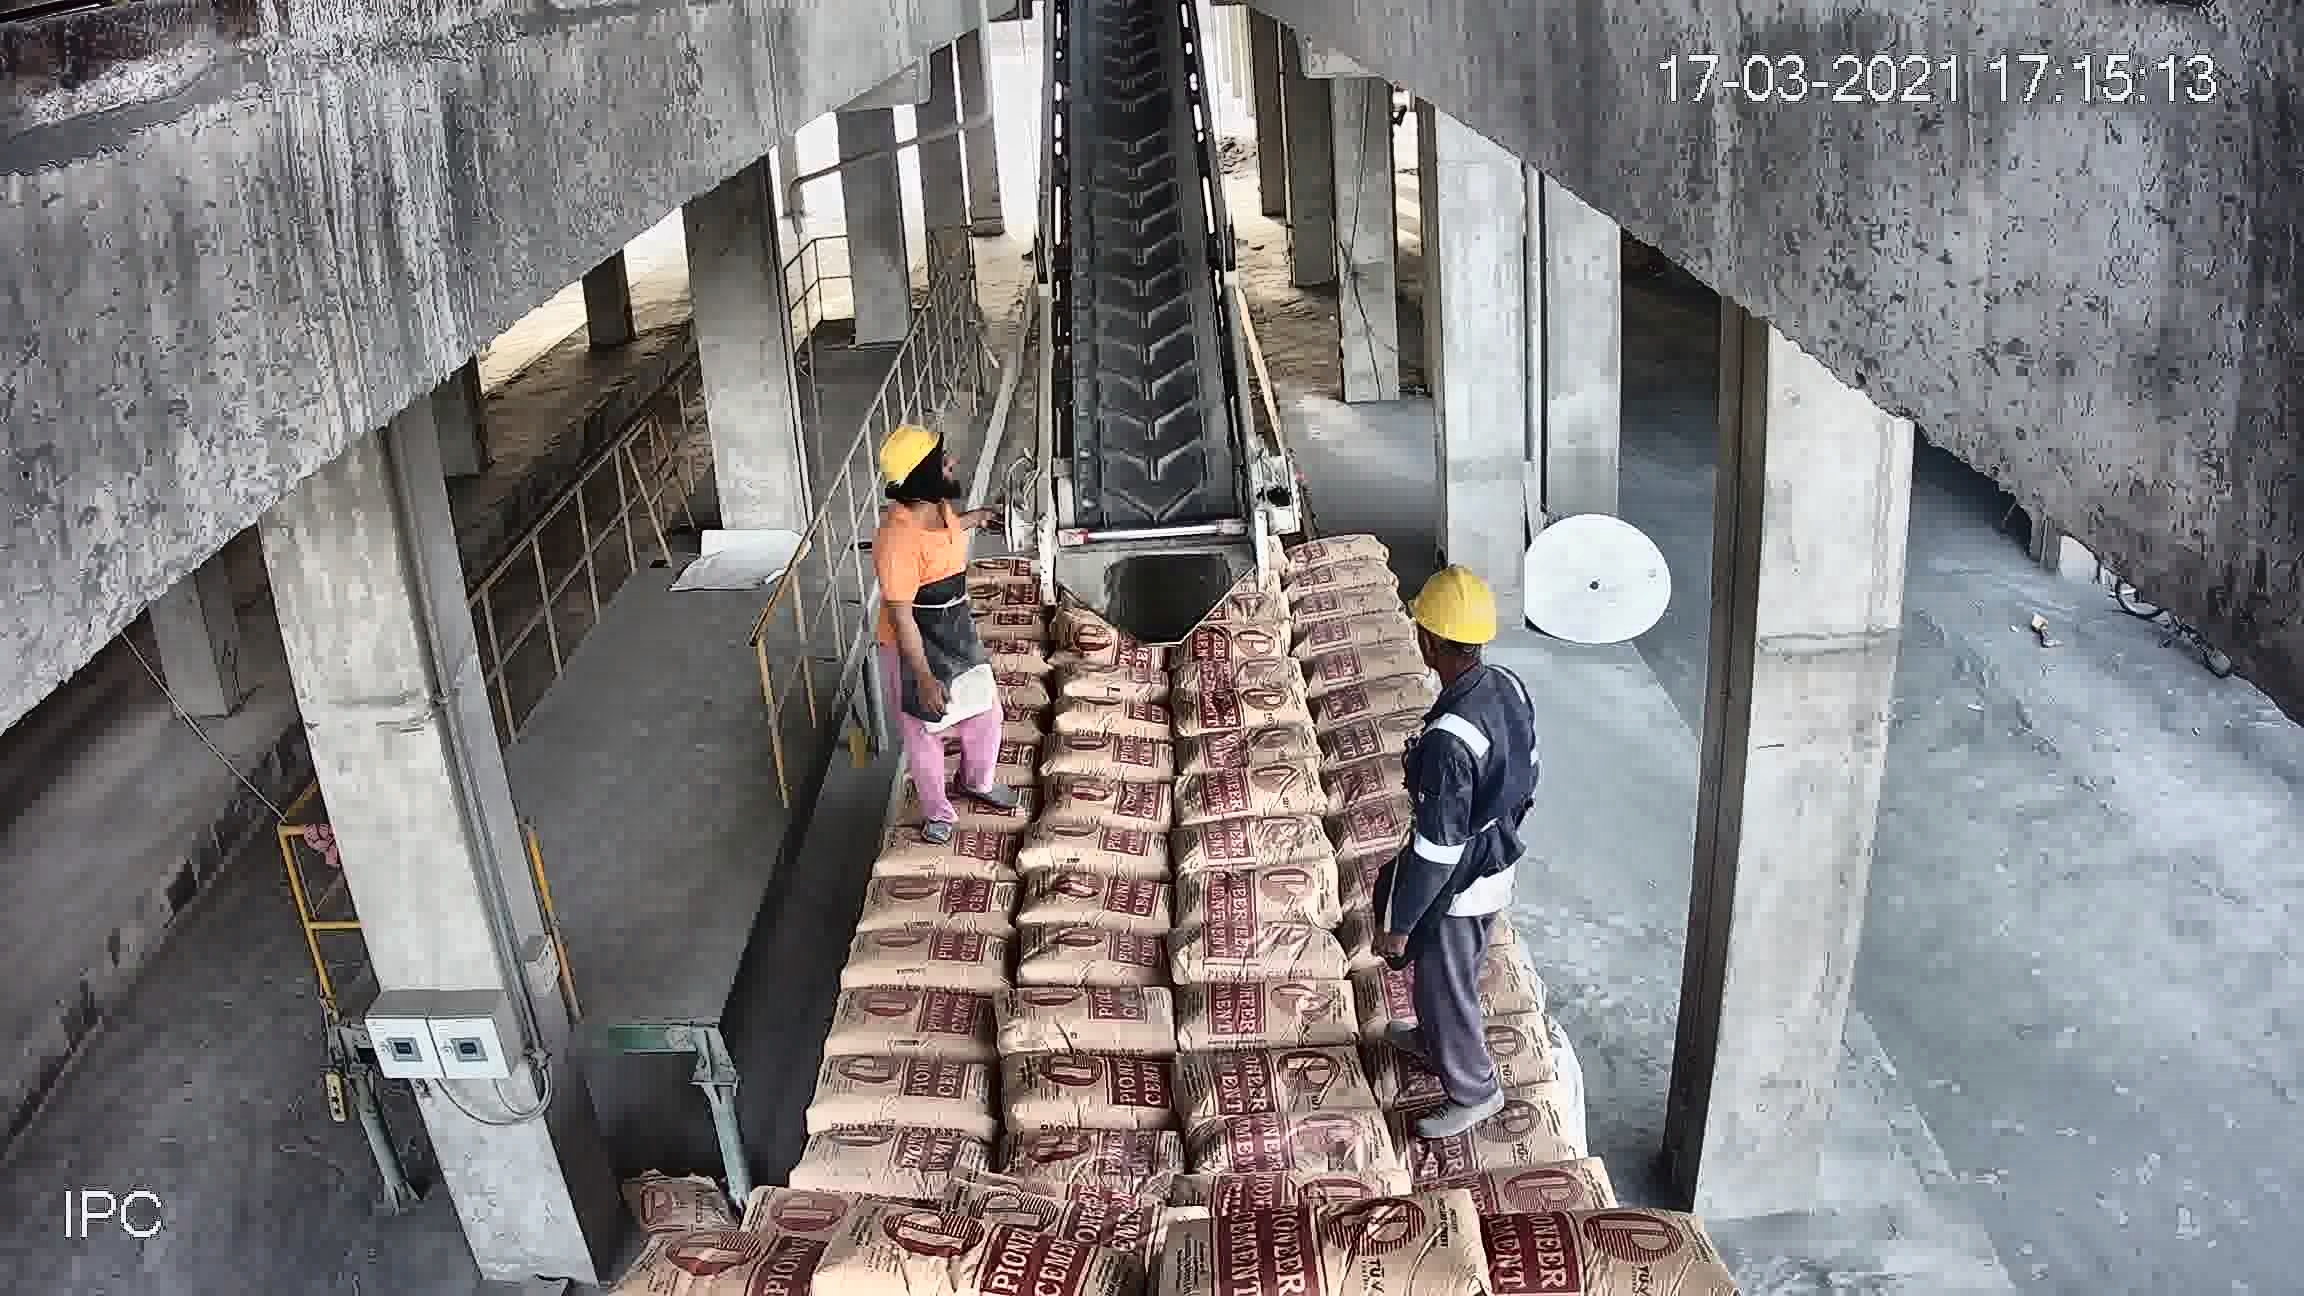bag_h: (1198, 1199, 1527, 1296), (805, 1218, 1120, 1294), (1442, 1209, 1703, 1291), (1388, 1086, 1581, 1185), (802, 1055, 1013, 1138), (1002, 1049, 1192, 1135), (1188, 1046, 1367, 1131), (1203, 1111, 1396, 1188), (1173, 976, 1366, 1052), (639, 1226, 850, 1296), (1000, 987, 1187, 1063), (829, 983, 1006, 1060), (855, 870, 1029, 946), (786, 1127, 999, 1188), (995, 1122, 1185, 1188), (1176, 924, 1353, 991), (1177, 862, 1339, 935), (1435, 1161, 1616, 1226), (837, 927, 1013, 994), (1019, 872, 1185, 934), (1177, 810, 1331, 877), (1022, 815, 1165, 885), (1185, 760, 1329, 824), (878, 821, 1033, 880), (1043, 774, 1182, 836), (1019, 934, 1173, 989), (1176, 674, 1310, 736), (875, 831, 1022, 885), (1304, 628, 1416, 685), (1048, 657, 1173, 707), (1185, 728, 1317, 775), (1048, 741, 1176, 786), (1321, 673, 1432, 722), (1301, 606, 1404, 658), (1184, 614, 1296, 661), (1052, 699, 1163, 745), (1290, 581, 1400, 625), (1290, 555, 1399, 595), (1290, 525, 1389, 565)
belt: (1033, 30, 1252, 590)
